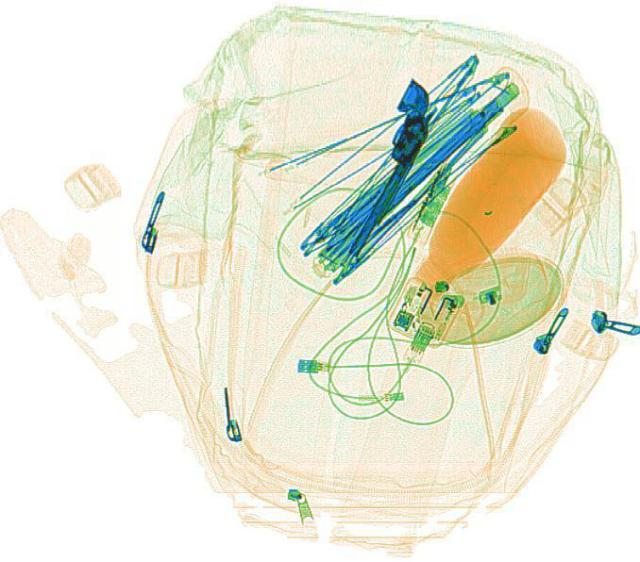Gun: (330, 72, 448, 255)
